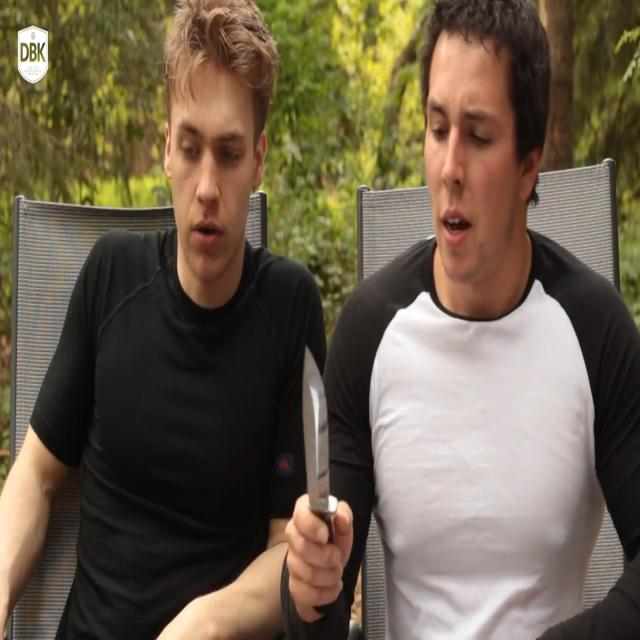knife: (302, 339, 343, 549)
